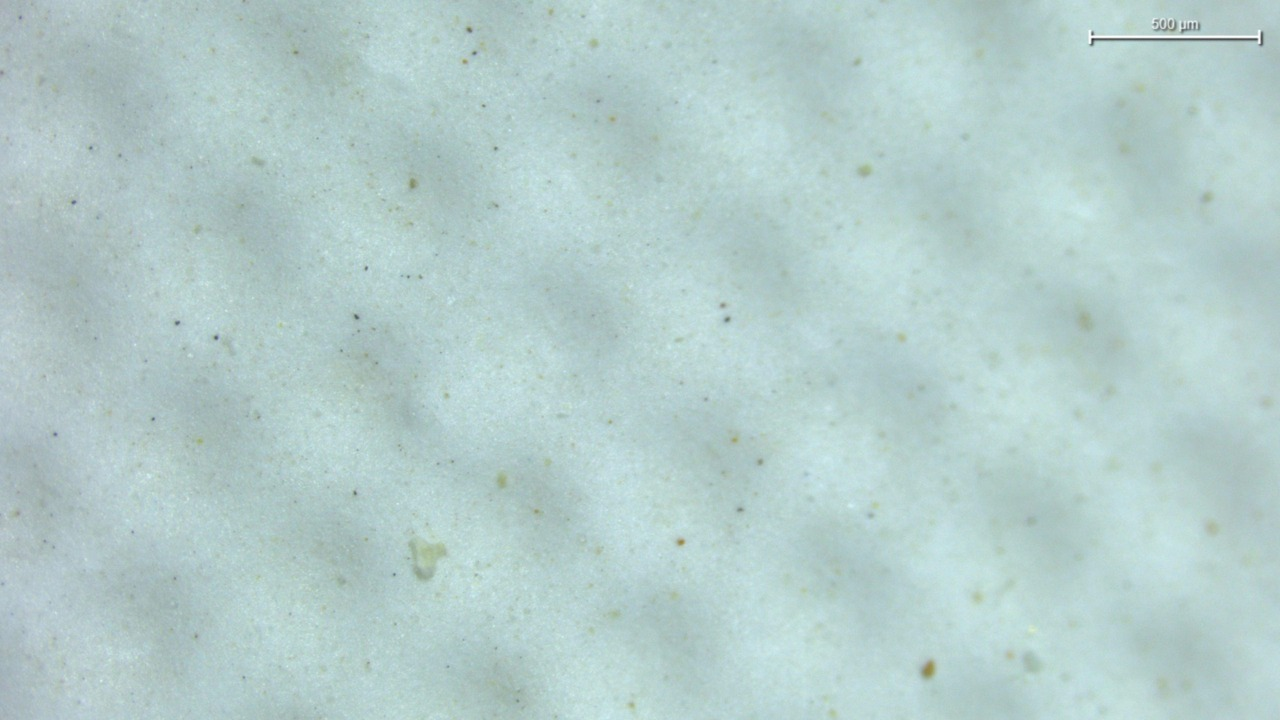microplastic_fragment: (408, 537, 446, 580)
